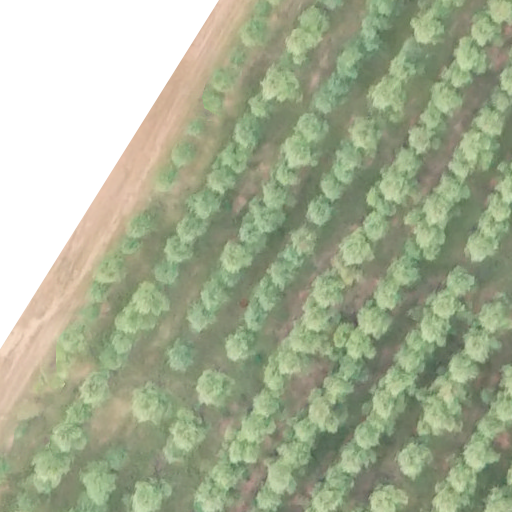eucalipto: (378, 165, 419, 210), (31, 454, 75, 492), (456, 134, 496, 175), (132, 381, 170, 424), (81, 461, 117, 506), (261, 65, 302, 104), (209, 458, 253, 494), (453, 35, 490, 77), (128, 282, 172, 317), (99, 331, 135, 373), (396, 441, 433, 481), (475, 296, 512, 336), (371, 80, 408, 119), (49, 422, 91, 455), (280, 134, 320, 168), (336, 442, 377, 475), (428, 80, 464, 117), (415, 219, 446, 261), (310, 393, 346, 429), (304, 296, 341, 331), (386, 256, 423, 291), (232, 115, 266, 153), (355, 305, 393, 339), (462, 436, 501, 469), (172, 411, 207, 447), (236, 413, 275, 445), (198, 371, 233, 406), (285, 29, 319, 65), (363, 184, 397, 220), (409, 14, 448, 45), (58, 321, 93, 355), (312, 271, 345, 307), (368, 483, 408, 512), (470, 13, 503, 48), (341, 230, 374, 265), (310, 480, 346, 512), (130, 479, 164, 512), (407, 124, 441, 157), (185, 301, 217, 335), (225, 327, 257, 361), (419, 312, 451, 346), (236, 220, 267, 255), (446, 354, 481, 385), (463, 332, 498, 363), (189, 191, 229, 218), (251, 202, 287, 232), (463, 235, 499, 265), (475, 212, 512, 241), (221, 242, 253, 275), (365, 1, 399, 32), (166, 337, 197, 371), (423, 197, 457, 228), (293, 114, 329, 143), (321, 373, 353, 405), (81, 372, 112, 405), (349, 121, 382, 152), (344, 330, 377, 361), (91, 256, 126, 285), (444, 464, 479, 493), (430, 175, 467, 202), (325, 460, 357, 491), (266, 464, 299, 494), (372, 389, 405, 419), (429, 291, 465, 318), (387, 54, 424, 80), (300, 5, 331, 36), (200, 281, 230, 313), (255, 279, 285, 311), (164, 235, 197, 264), (384, 366, 417, 395), (474, 108, 505, 138), (373, 282, 403, 313), (337, 353, 367, 384), (218, 145, 250, 174), (335, 143, 367, 172), (261, 181, 294, 209), (433, 484, 466, 512), (313, 87, 342, 118), (355, 419, 384, 450), (445, 267, 477, 295), (204, 167, 237, 194), (337, 47, 364, 80), (242, 19, 272, 48), (246, 93, 277, 121), (405, 329, 437, 356), (277, 442, 311, 467), (251, 390, 281, 418), (395, 348, 426, 375), (476, 412, 508, 438), (394, 148, 422, 177), (485, 192, 512, 222), (442, 63, 473, 89), (243, 301, 270, 330), (175, 217, 209, 240), (363, 213, 389, 243), (226, 442, 259, 465), (318, 173, 346, 200), (269, 261, 296, 289), (276, 349, 303, 377), (484, 485, 512, 512), (125, 215, 156, 239), (489, 391, 512, 423), (305, 199, 332, 226), (153, 260, 181, 286), (418, 106, 446, 132), (291, 227, 316, 255), (291, 419, 319, 444), (274, 161, 299, 187), (171, 142, 197, 166), (326, 72, 351, 96), (213, 70, 238, 93), (202, 93, 225, 118), (119, 237, 145, 257), (497, 174, 512, 204), (488, 93, 511, 112), (157, 167, 176, 188), (499, 67, 512, 97), (185, 122, 203, 139), (230, 51, 249, 66)
